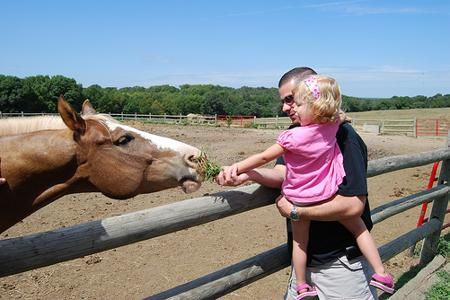person: (214, 67, 379, 300)
